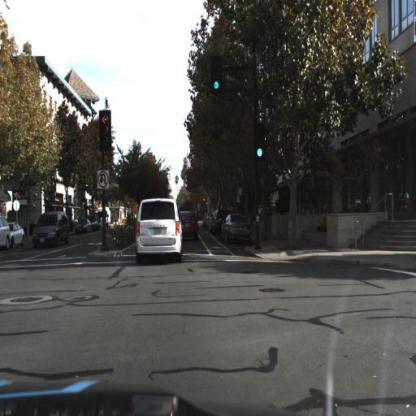car: (132, 192, 189, 270), (31, 210, 71, 250), (172, 205, 204, 252), (219, 212, 253, 243), (213, 211, 230, 238), (99, 206, 113, 233), (75, 218, 93, 236)
trafficLight: (254, 122, 266, 161)
trafficLight-Green: (211, 54, 222, 91)
trafficLight-RedLeft: (100, 110, 112, 149)
